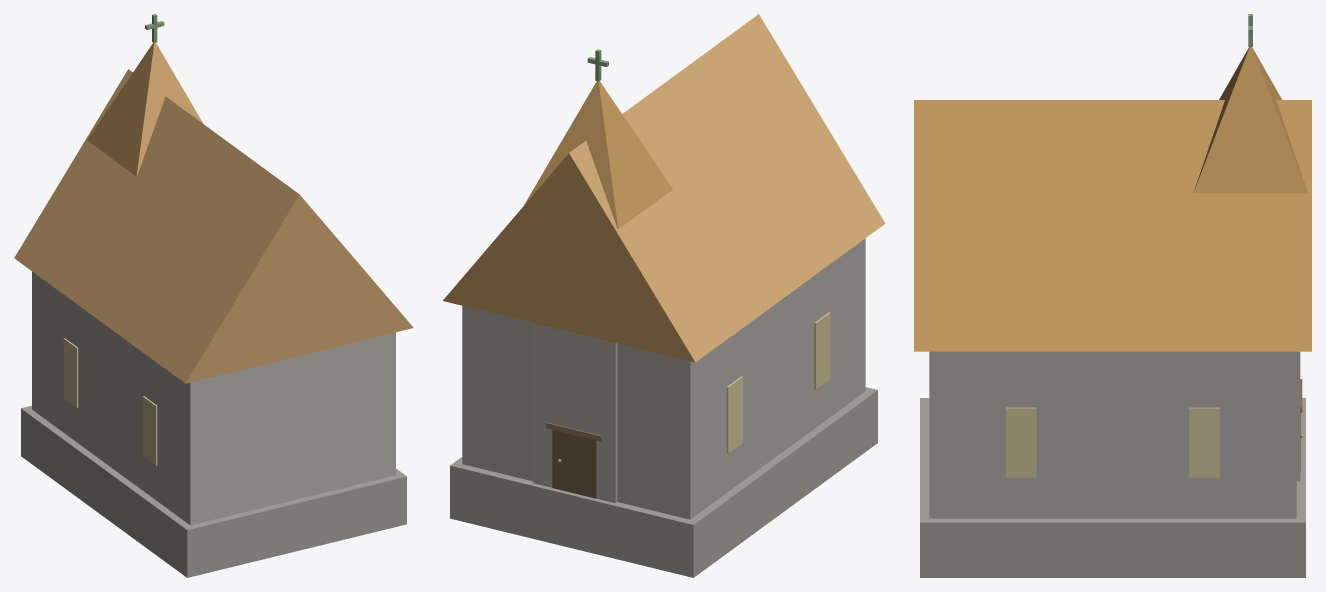
The model's file is temple.glb.
The picture shows the model from 3 angles, left to right: view 1: azimuth 30°, elevation 25°; view 2: azimuth 150°, elevation 25°; view 3: azimuth 270°, elevation 25°; orthographic projection. The views are drawn at different scales.
Visible parts, largest first — view 1: temple2; view 2: temple2; view 3: temple2.
Part boxes in pixels (box(x1,y1,x2,y2)): temple2: box(14, 14, 413, 577); temple2: box(443, 14, 885, 577); temple2: box(914, 14, 1311, 577).
Size of the model in its own units: 8 by 14.45 by 10.4.
